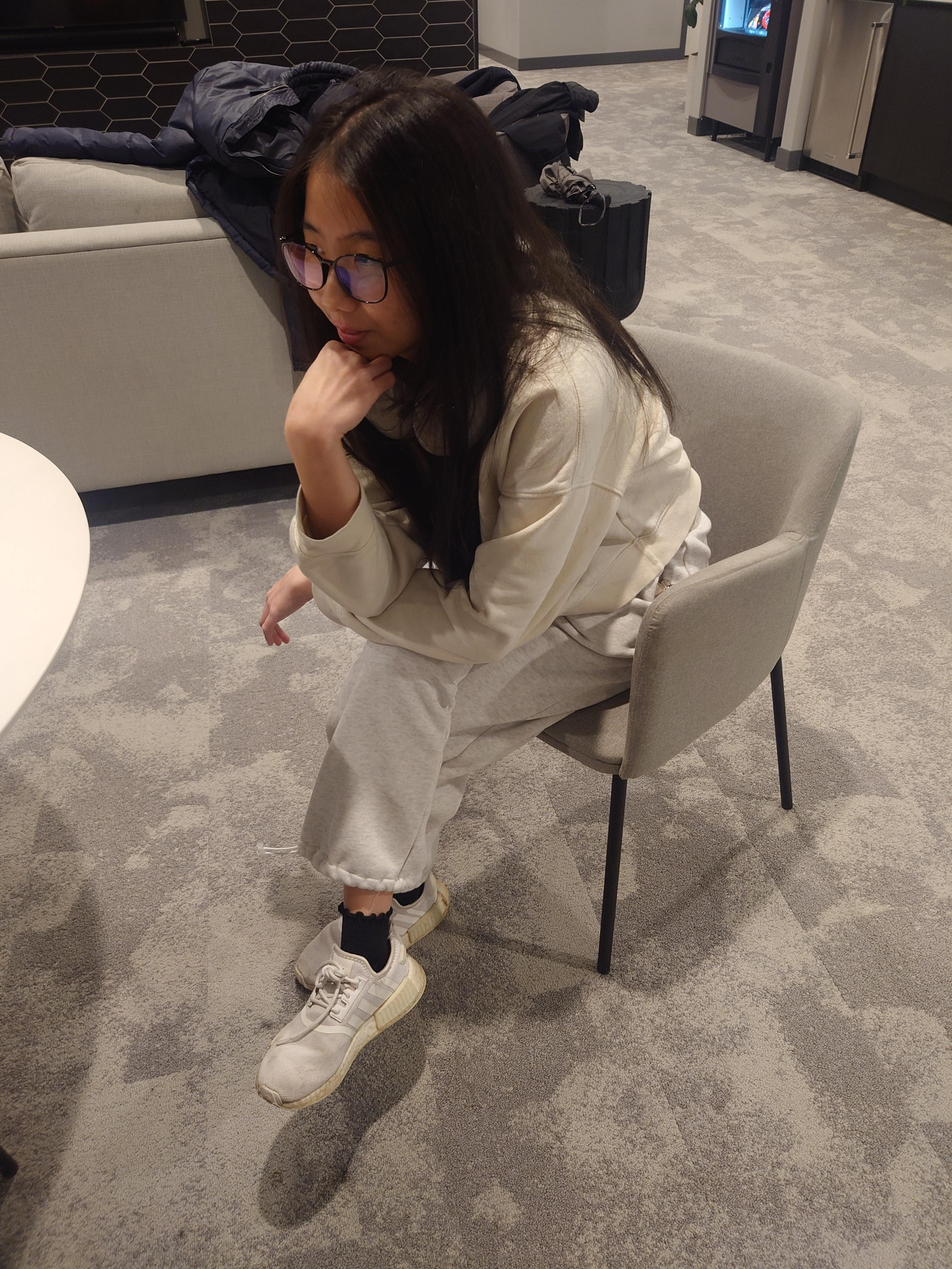BadPosture: (254, 68, 714, 1111)
